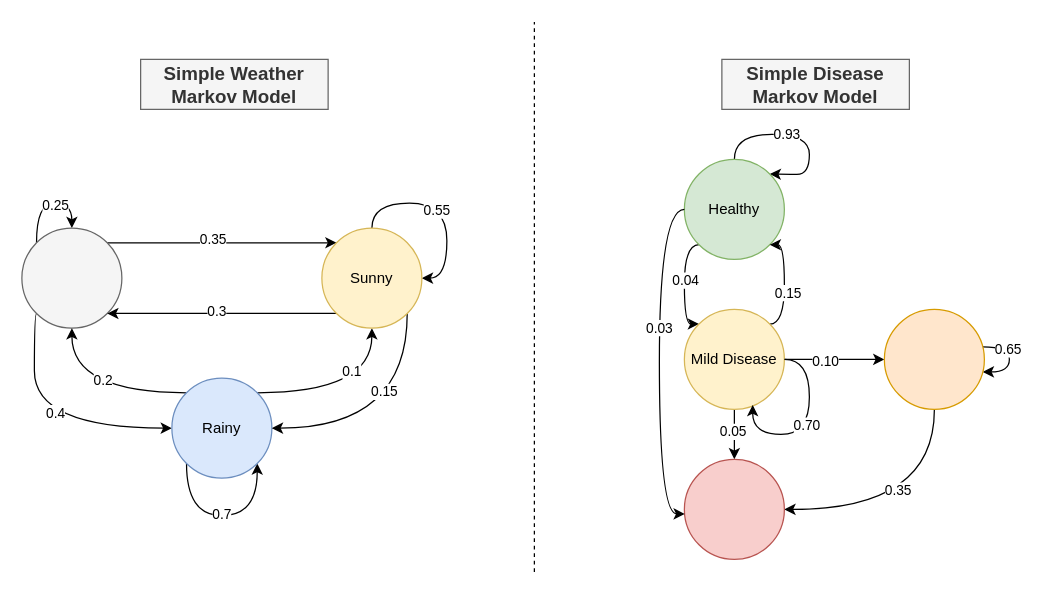
This 1043x595 diagram has some shape labels left out. The centre of each missing label's shape, as x and y in pixels:
Cloudy: point 71,277
Deceased: point 733,508
Severe Disease: point 933,358
